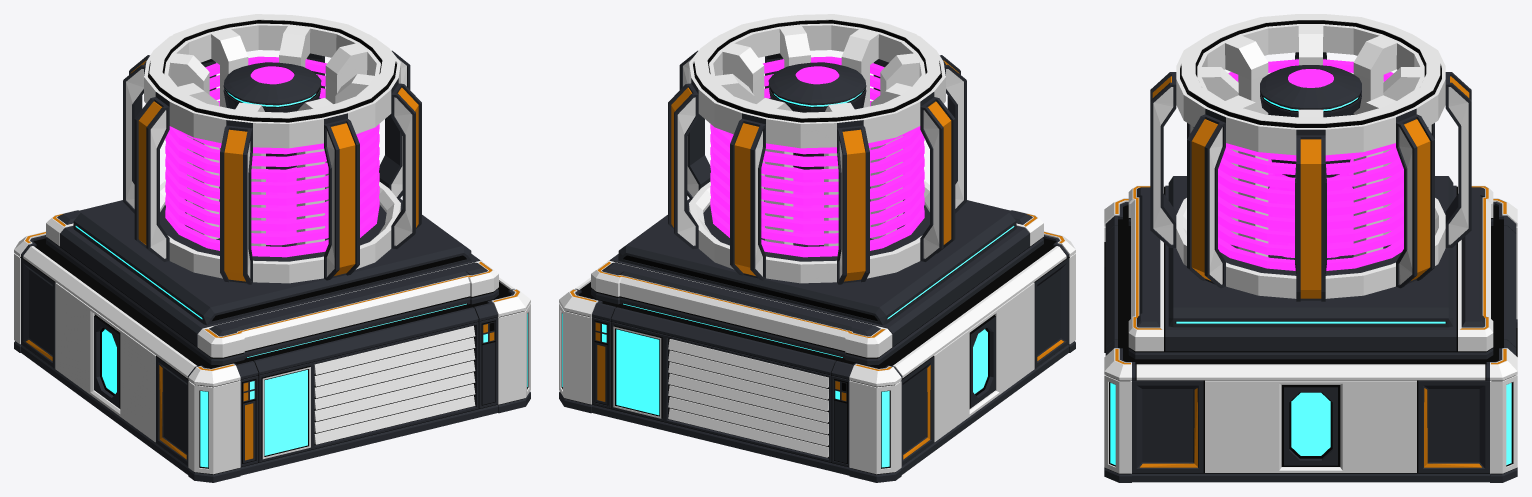
The model's file is SM_Fusion_T3.fbx.
3 views of the same model, side by side, from view 1: azimuth 30°, elevation 25°; view 2: azimuth 150°, elevation 25°; view 3: azimuth 270°, elevation 25° (orthographic). The views are drawn at different scales.
Visible parts, largest first — view 1: SM_Fusion_T3; view 2: SM_Fusion_T3; view 3: SM_Fusion_T3.
Boxes of the visible parts, x1,y1,x2,y2 form: SM_Fusion_T3: (14, 14, 530, 482); SM_Fusion_T3: (559, 14, 1075, 482); SM_Fusion_T3: (1104, 14, 1517, 482).
Size of the model in its own units: 300 by 262 by 300.
